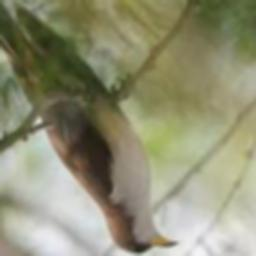Cuckoo: (0, 0, 179, 253)
